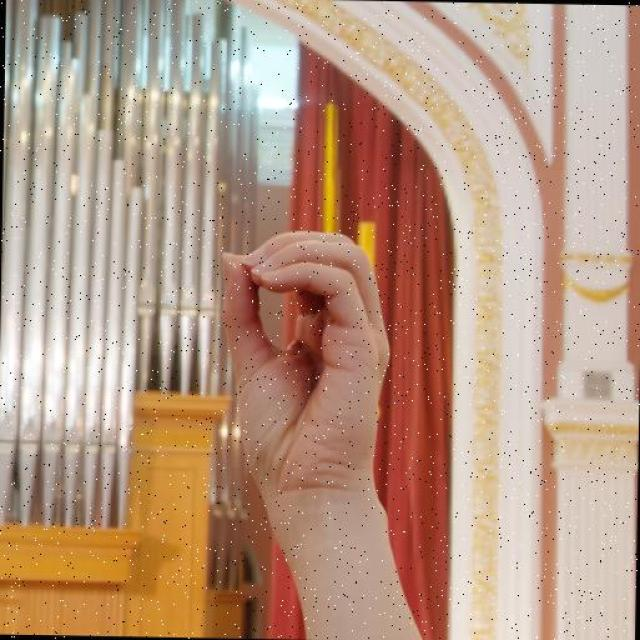O: (211, 226, 395, 504)
